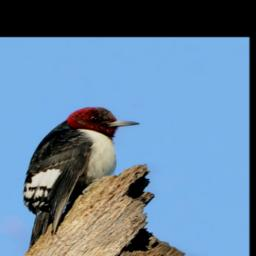Woodpecker: (16, 103, 142, 254)
